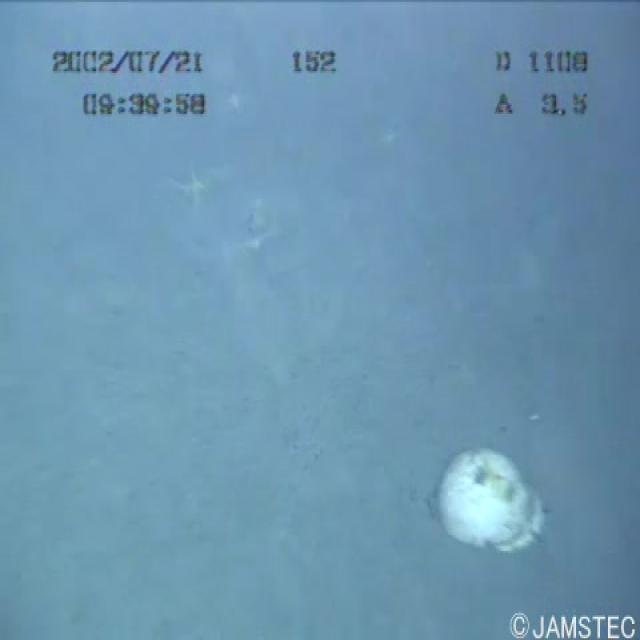plastic: (410, 428, 570, 569)
